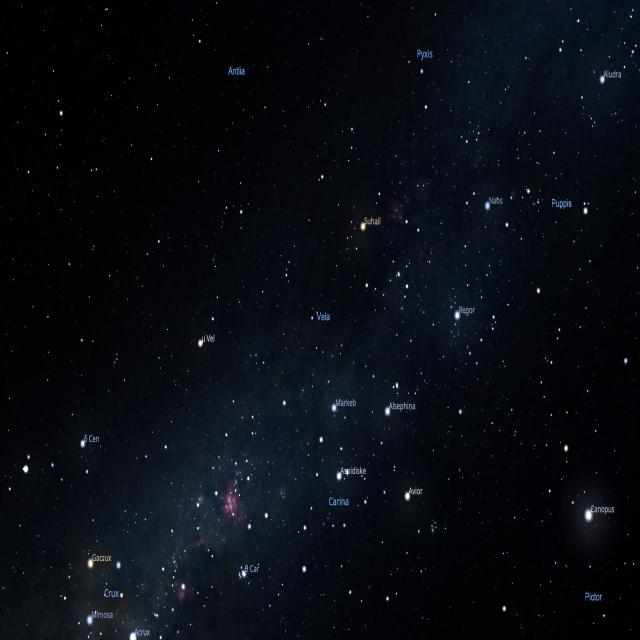Vela: (196, 171, 474, 425)
